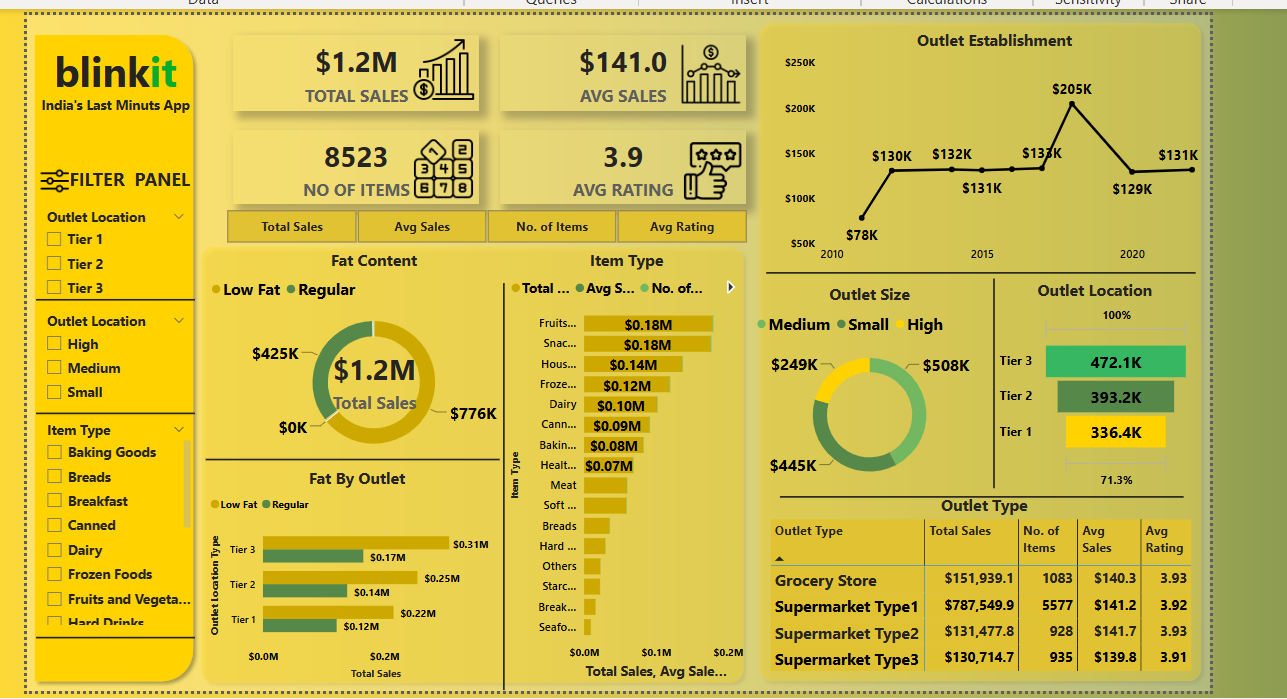

What the dashboard file says about the page in this screenshot:
{"tool":"powerbi","page":{"name":"Page 1","canvas":[1400,800],"ordinal":0},"visuals":[{"type":"shape","box":[0,14,206,784],"z":0},{"type":"textbox","box":[10,28,188,130],"z":1000},{"type":"textbox","box":[10,90,188,56],"z":2000},{"type":"card","fields":{"Values":["BlinkIT Grocery Data.Total Sales"]},"box":[244,24,292,90],"z":3000},{"type":"card","fields":{"Values":["BlinkIT Grocery Data.Avg Sales"]},"box":[560,24,292,90],"z":4000},{"type":"card","fields":{"Values":["BlinkIT Grocery Data.Avg Rating"]},"box":[560,136,292,88],"z":5000},{"type":"card","fields":{"Values":["BlinkIT Grocery Data.No. of Items"]},"box":[244,136,292,88],"z":6000},{"type":"shape","box":[198,266,660,534],"z":7000},{"type":"donutChart","title":"Fat Content","fields":{"Y":["BlinkIT Grocery Data.Total Sales","BlinkIT Grocery Data.Avg Sales","BlinkIT Grocery Data.No. of Items","BlinkIT Grocery Data.Avg Rating"],"Category":["BlinkIT Grocery Data.Item Fat Content"]},"box":[212,276,398,258],"z":8000},{"type":"slicer","fields":{"Values":["Metrics.Metrics"]},"box":[212,224,664,52],"z":9000},{"type":"card","fields":{"Values":["BlinkIT Grocery Data.Total Sales"]},"box":[356,386,112,94],"z":10000},{"type":"clusteredBarChart","title":"Fat By Outlet","fields":{"Y":["BlinkIT Grocery Data.Total Sales"],"Category":["BlinkIT Grocery Data.Outlet Location Type"],"Series":["BlinkIT Grocery Data.Item Fat Content"]},"box":[212,534,358,258],"z":11000},{"type":"shape","box":[212,518,348,16],"z":12000},{"type":"shape","box":[560,318,10,482],"z":13000},{"type":"barChart","title":" Item Type","fields":{"Y":["BlinkIT Grocery Data.Total Sales","BlinkIT Grocery Data.Avg Sales","BlinkIT Grocery Data.No. of Items","BlinkIT Grocery Data.Avg Rating"],"Category":["BlinkIT Grocery Data.Item Type"]},"box":[566,276,286,516],"z":14000},{"type":"shape","box":[858,0,542,798],"z":15000},{"type":"lineChart","title":"Outlet Establishment","fields":{"Category":["BlinkIT Grocery Data.Outlet Establishment Year"],"Y":["BlinkIT Grocery Data.Total Sales"]},"box":[892,16,508,286],"z":16000},{"type":"shape","box":[876,302,508,8],"z":17000},{"type":"image","box":[766,146,92,78],"z":18000},{"type":"donutChart","title":"Outlet Size","fields":{"Y":["BlinkIT Grocery Data.Total Sales"],"Category":["BlinkIT Grocery Data.Outlet Size"]},"box":[858,318,280,252],"z":19000},{"type":"shape","box":[1130,312,30,248],"z":20000},{"type":"funnel","title":"Outlet Location ","fields":{"Y":["Sum(BlinkIT Grocery Data.Sales)"],"Category":["BlinkIT Grocery Data.Outlet Location Type"]},"box":[1146,312,236,254],"z":21000},{"type":"shape","box":[892,560,478,22],"z":22000},{"type":"pivotTable","title":"Outlet Type","fields":{"Rows":["BlinkIT Grocery Data.Outlet Type"],"Values":["BlinkIT Grocery Data.Total Sales","BlinkIT Grocery Data.No. of Items","BlinkIT Grocery Data.Avg Sales","BlinkIT Grocery Data.Avg Rating"]},"box":[876,566,516,226],"z":23000},{"type":"slicer","fields":{"Values":["BlinkIT Grocery Data.Outlet Size"]},"box":[10,346,188,130],"z":23003},{"type":"slicer","fields":{"Values":["BlinkIT Grocery Data.Item Type"]},"box":[10,476,188,252],"z":23004},{"type":"image","box":[450,24,86,82],"z":23005},{"type":"image","box":[450,142,86,80],"z":23006},{"type":"image","box":[766,28,88,82],"z":23007},{"type":"textbox","box":[38,174,168,50],"z":23008},{"type":"image","box":[10,170,44,52],"z":23009},{"type":"shape","box":[10,328,188,18],"z":23010},{"type":"shape","box":[10,462,188,18],"z":23011},{"type":"shape","box":[10,728,188,18],"z":23012},{"type":"slicer","fields":{"Values":["BlinkIT Grocery Data.Outlet Location Type"]},"box":[10,222,188,122],"z":23013}]}

Visuals, with their boxes on the page's 1400x800 design canvas (x1, y1, x2, y2). These are canvas units, not pixel positions in the 1287x699 screenshot, which may show the page scaled, cropped or inside an application window:
shape: bbox(0, 14, 206, 798)
textbox: bbox(10, 28, 198, 158)
textbox: bbox(10, 90, 198, 146)
card - BlinkIT Grocery Data.Total Sales: bbox(244, 24, 536, 114)
card - BlinkIT Grocery Data.Avg Sales: bbox(560, 24, 852, 114)
card - BlinkIT Grocery Data.Avg Rating: bbox(560, 136, 852, 224)
card - BlinkIT Grocery Data.No. of Items: bbox(244, 136, 536, 224)
shape: bbox(198, 266, 858, 800)
"Fat Content" donutChart: bbox(212, 276, 610, 534)
slicer - Metrics.Metrics: bbox(212, 224, 876, 276)
card - BlinkIT Grocery Data.Total Sales: bbox(356, 386, 468, 480)
"Fat By Outlet" clusteredBarChart: bbox(212, 534, 570, 792)
shape: bbox(212, 518, 560, 534)
shape: bbox(560, 318, 570, 800)
" Item Type" barChart: bbox(566, 276, 852, 792)
shape: bbox(858, 0, 1400, 798)
"Outlet Establishment" lineChart: bbox(892, 16, 1400, 302)
shape: bbox(876, 302, 1384, 310)
image: bbox(766, 146, 858, 224)
"Outlet Size" donutChart: bbox(858, 318, 1138, 570)
shape: bbox(1130, 312, 1160, 560)
"Outlet Location " funnel: bbox(1146, 312, 1382, 566)
shape: bbox(892, 560, 1370, 582)
"Outlet Type" pivotTable: bbox(876, 566, 1392, 792)
slicer - BlinkIT Grocery Data.Outlet Size: bbox(10, 346, 198, 476)
slicer - BlinkIT Grocery Data.Item Type: bbox(10, 476, 198, 728)
image: bbox(450, 24, 536, 106)
image: bbox(450, 142, 536, 222)
image: bbox(766, 28, 854, 110)
textbox: bbox(38, 174, 206, 224)
image: bbox(10, 170, 54, 222)
shape: bbox(10, 328, 198, 346)
shape: bbox(10, 462, 198, 480)
shape: bbox(10, 728, 198, 746)
slicer - BlinkIT Grocery Data.Outlet Location Type: bbox(10, 222, 198, 344)
